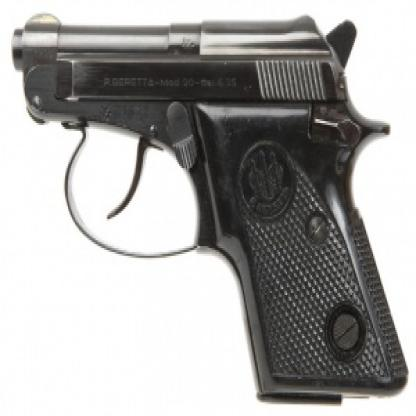Guns: (6, 8, 410, 402)
